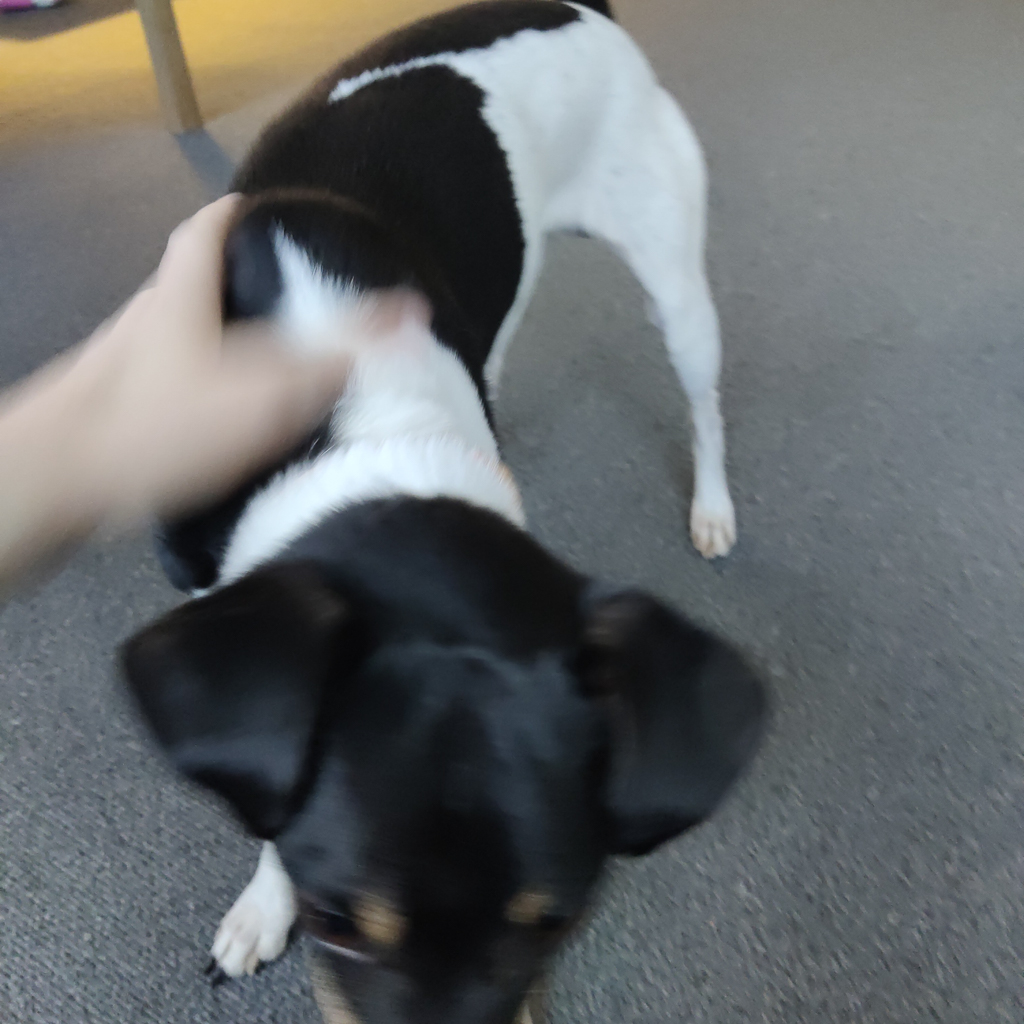Dog: (82, 0, 782, 1024)
Humanoid: (0, 168, 456, 629)
